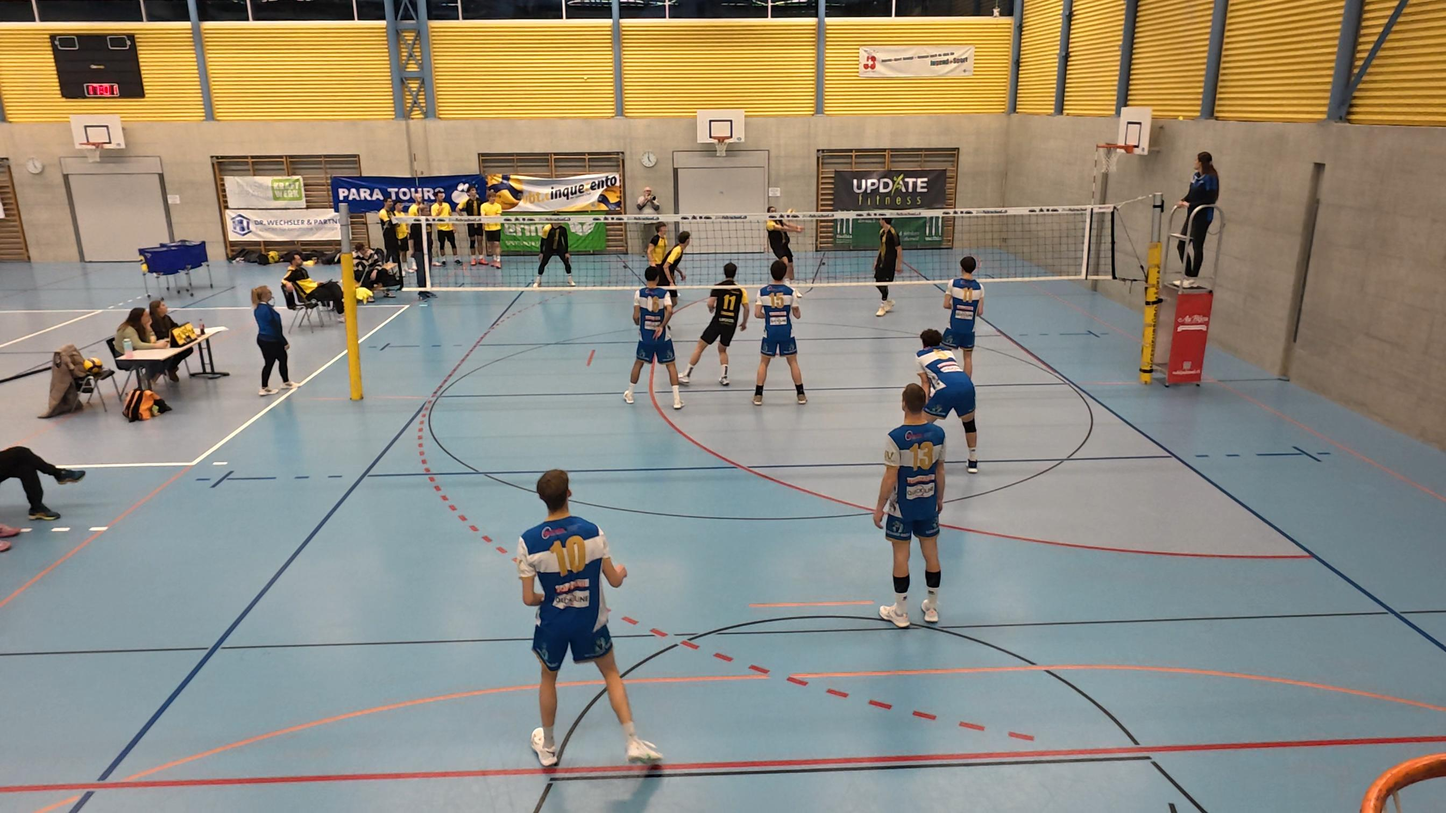Player: (516, 469, 662, 768), (873, 389, 947, 628), (912, 326, 978, 472), (679, 262, 743, 385), (751, 262, 806, 404), (624, 282, 683, 409), (938, 256, 984, 372), (655, 222, 691, 327), (870, 215, 902, 317), (533, 222, 579, 287), (642, 222, 666, 283)
Receive: (763, 198, 800, 283)
ball: (783, 206, 798, 222)
